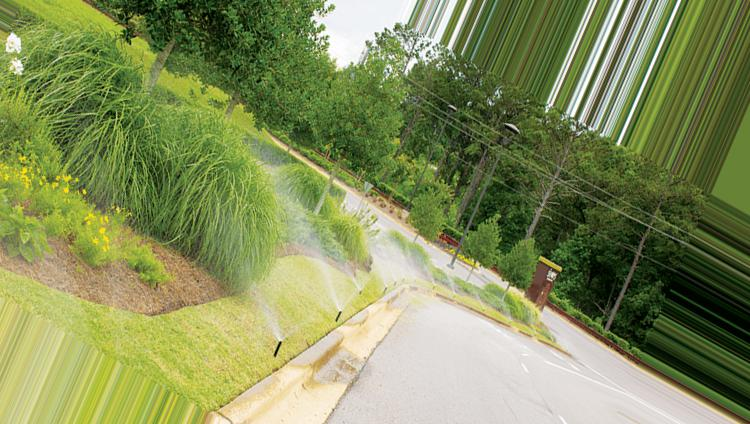patch: (174, 268, 211, 301), (93, 275, 137, 298)
